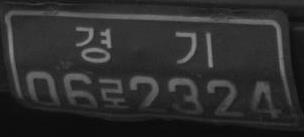0: (25, 70, 61, 106)
2: (206, 77, 245, 118), (128, 74, 165, 113)
3: (166, 76, 205, 115)
4: (248, 80, 282, 119)
6: (62, 72, 99, 110)
경기_D: (75, 25, 214, 69)
로: (98, 78, 129, 110)
